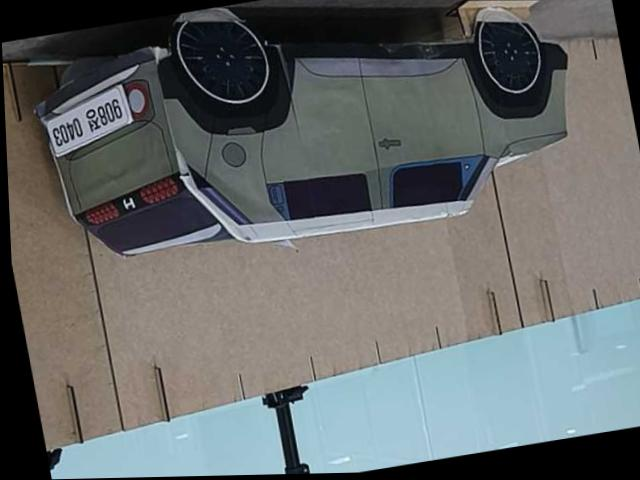car: (14, 0, 608, 295)
id: (37, 84, 142, 161)
